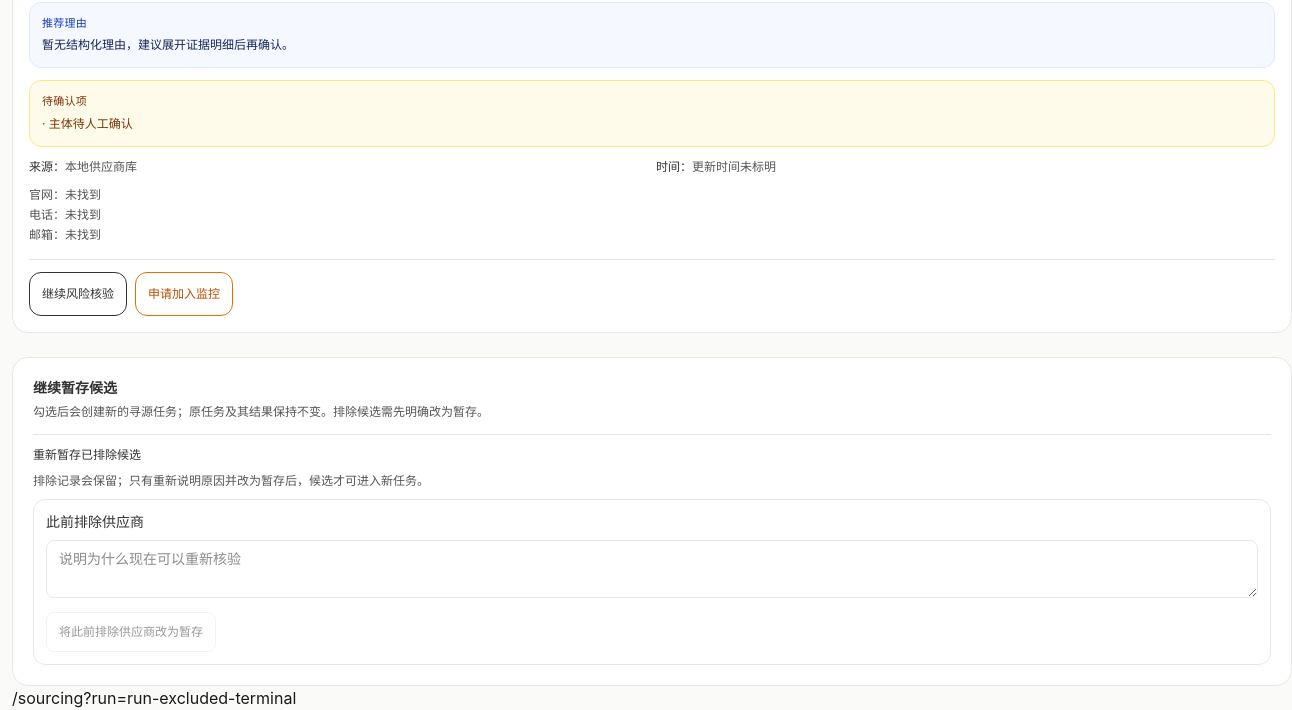
SourcingRiskWorkbench › lets the user reclassify an excluded candidate as deferred before follow-up
This screenshot has width=1292, height=710.
(page scrolled)
Check: the element named "暂存候选恢复" is shown, box 12,356 -> 1291,686
Type "补齐资料后再核验" into the text box named "此前排除供应商重新暂存原因" at point(652, 568), box 46,540 -> 1258,598
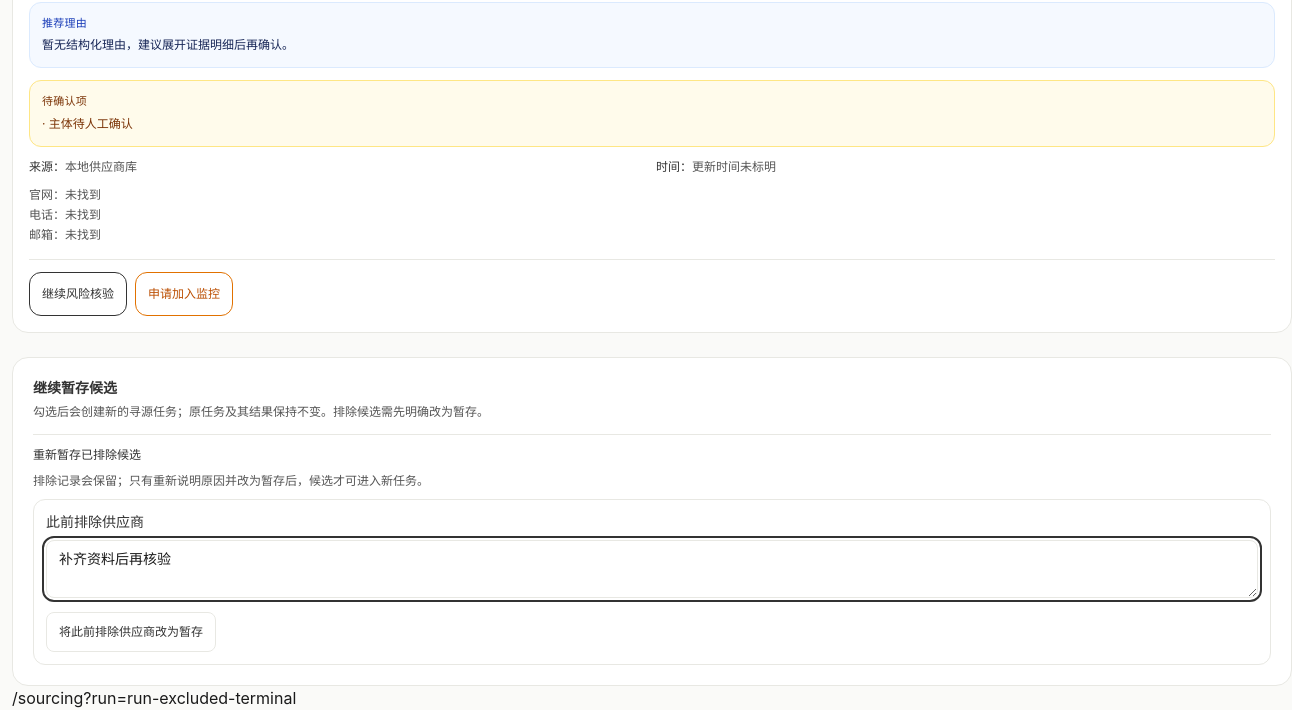
Click the button "将此前排除供应商改为暂存" at point(131, 632), box 46,612 -> 216,652
(page scrolled)
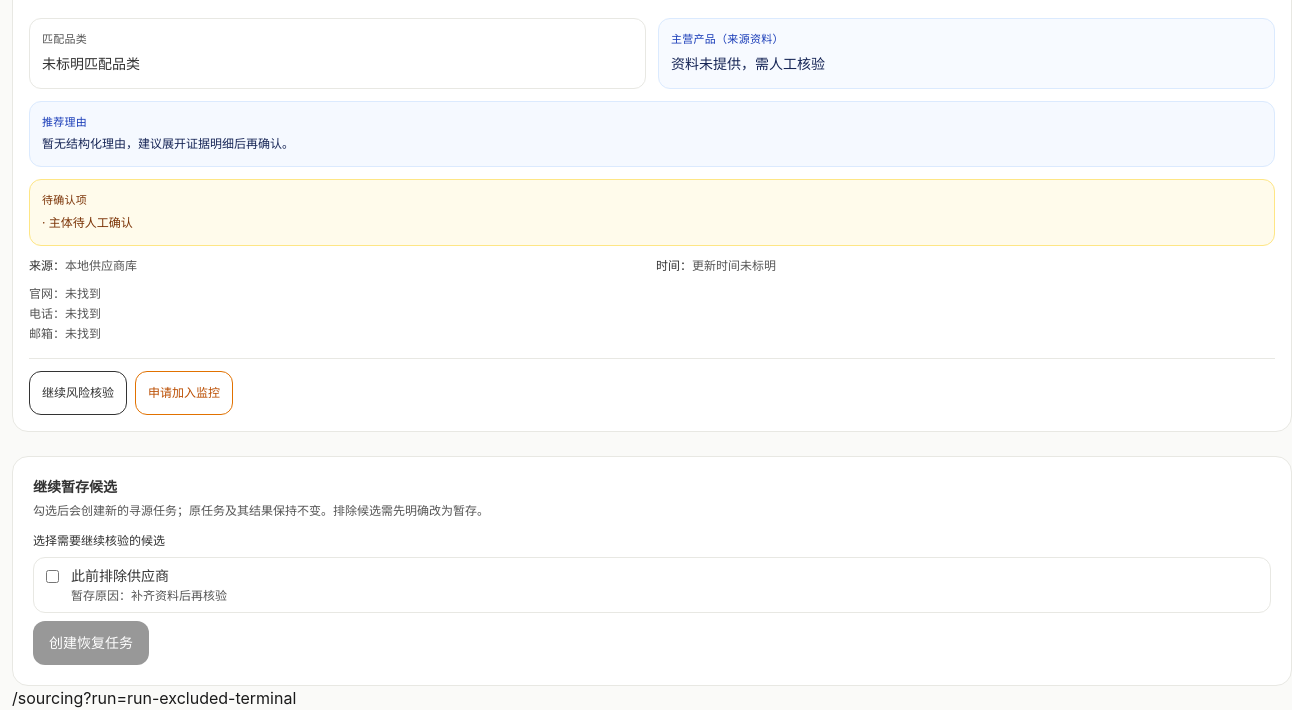
Check: the checkbox named "选择此前排除供应商继续核验" is shown, box 46,570 -> 59,582
